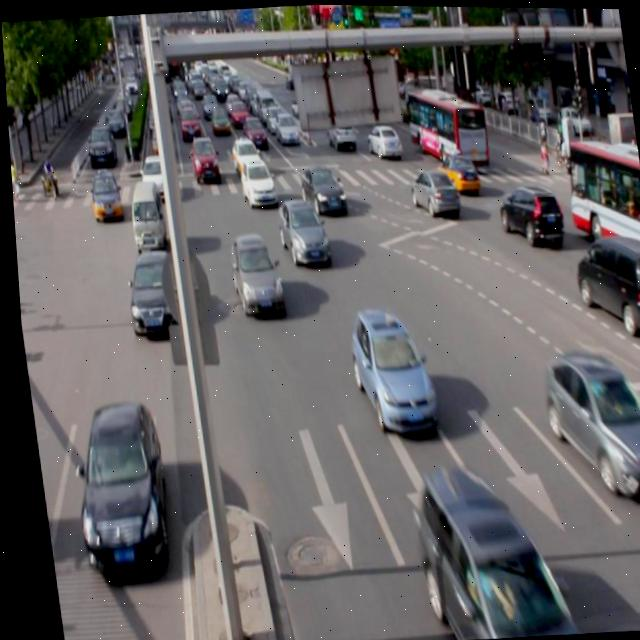car: (399, 454, 572, 640), (60, 396, 169, 577), (534, 341, 640, 498), (340, 301, 435, 438), (567, 226, 640, 335), (224, 229, 283, 318), (118, 245, 176, 335), (493, 179, 562, 246), (273, 194, 329, 269), (404, 164, 457, 216)
truck: (123, 176, 164, 249)
van: (561, 131, 640, 293)
